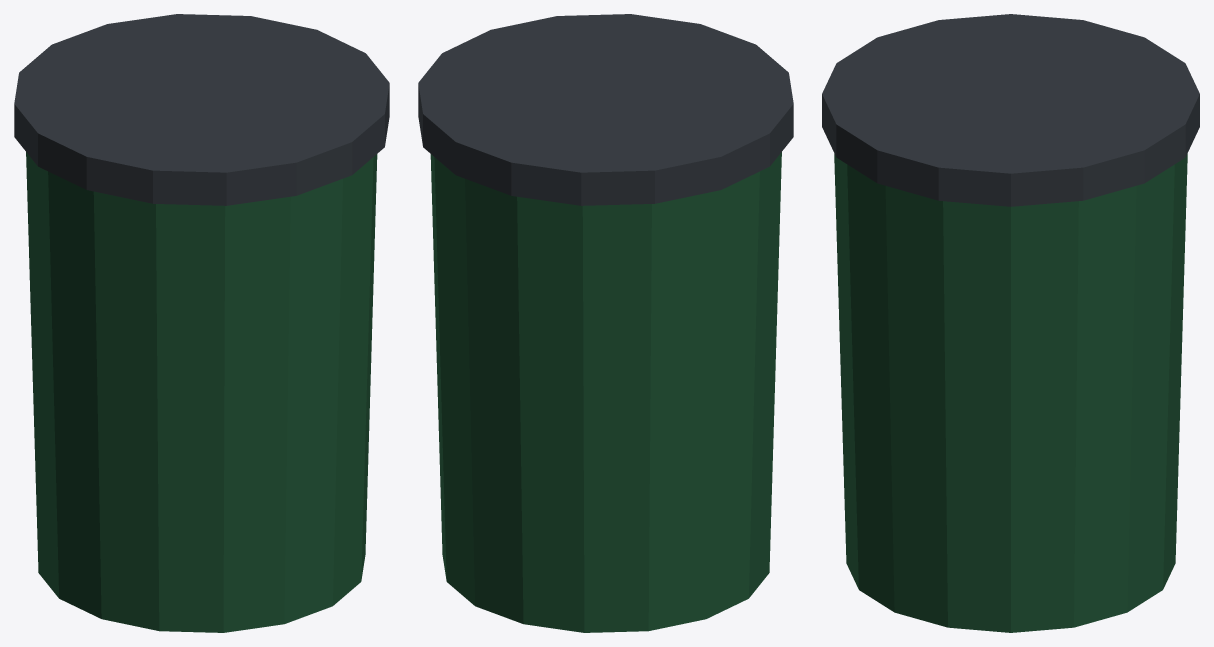
File: TrashBin.fbx
The picture shows the model from 3 angles, left to right: view 1: azimuth 30°, elevation 25°; view 2: azimuth 150°, elevation 25°; view 3: azimuth 270°, elevation 25°; orthographic projection.
Parts seen in each view (by area): view 1: TrashBin; view 2: TrashBin; view 3: TrashBin.
Part boxes in pixels (bbox=[...]): TrashBin: bbox=[14, 14, 389, 632]; TrashBin: bbox=[418, 14, 793, 632]; TrashBin: bbox=[822, 14, 1199, 632].
Bounding box in the file's own units: 0.62 × 0.9 × 0.62.
